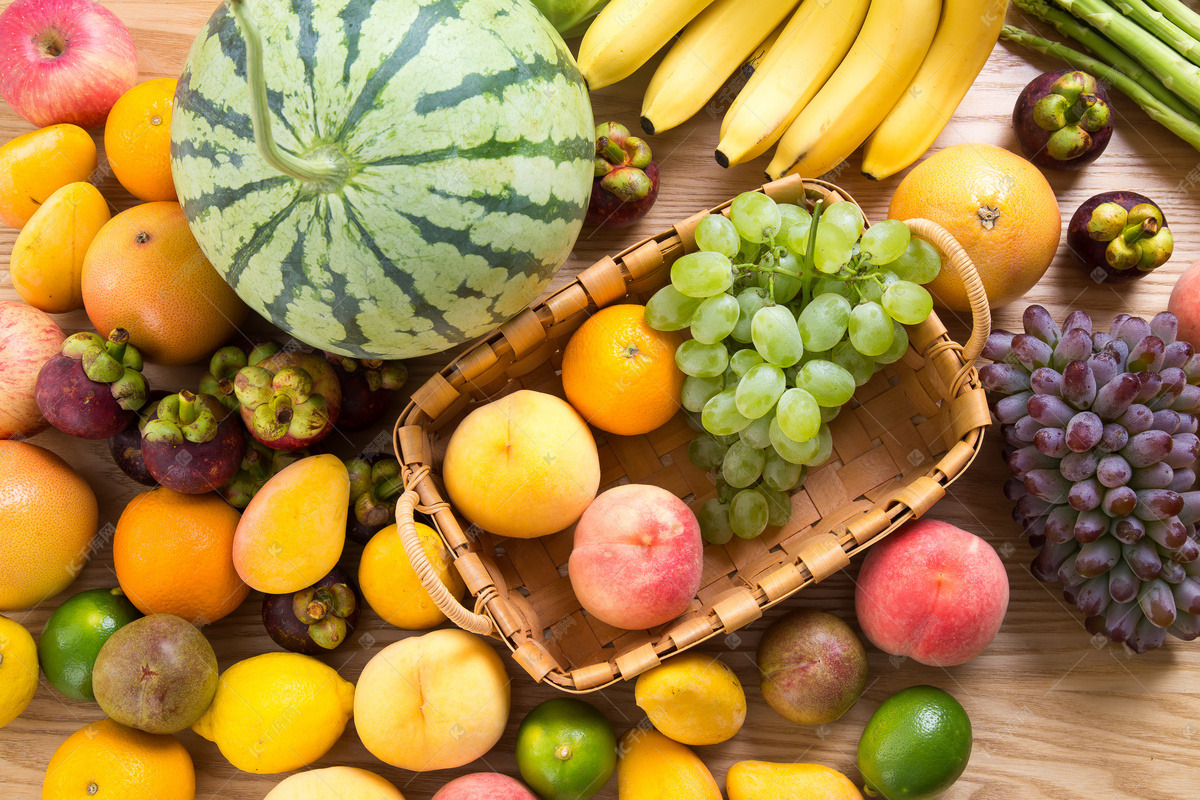apple: (850, 502, 1017, 670), (558, 479, 710, 633)
banana: (686, 0, 1008, 197)
orange: (867, 150, 1091, 340), (71, 206, 246, 375), (431, 392, 615, 546), (196, 651, 371, 788), (104, 490, 258, 632), (225, 460, 364, 604), (556, 304, 694, 449)
